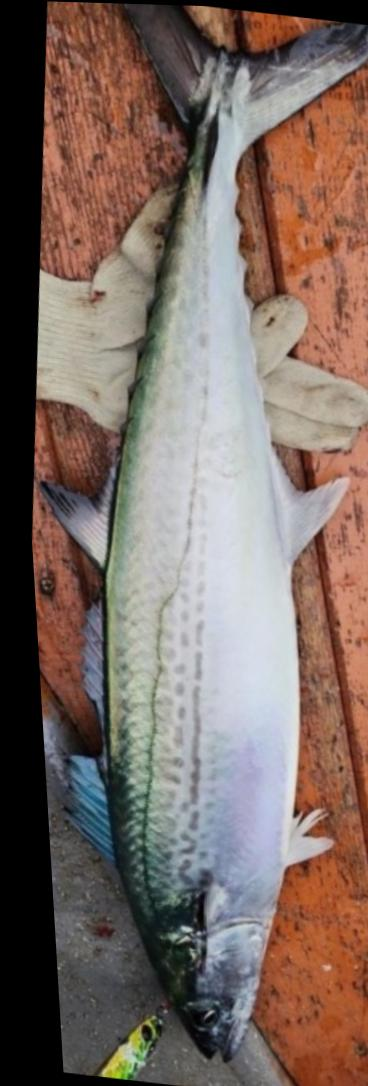fish: (35, 3, 368, 1060)
